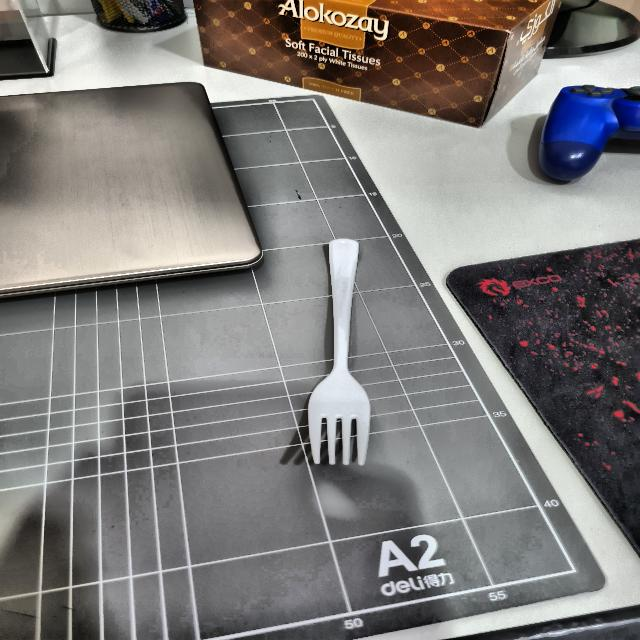plastic utensil: (304, 235, 379, 474)
